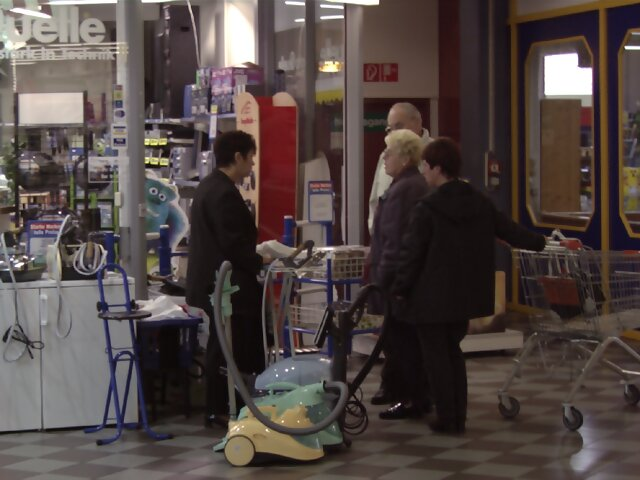person: (397, 139, 550, 430), (184, 126, 282, 387)
